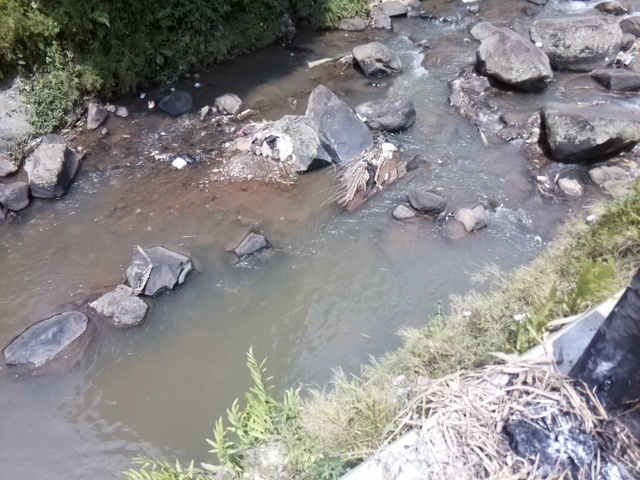Sampah_Styrofoam: (170, 156, 189, 170)
